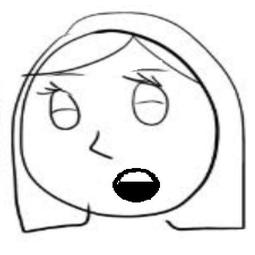eye: (120, 73, 177, 131), (30, 81, 84, 133)
eyebrow: (133, 63, 170, 74), (54, 70, 92, 80)
open_mouth: (111, 160, 166, 206)
pointy_nose: (87, 128, 116, 167)
